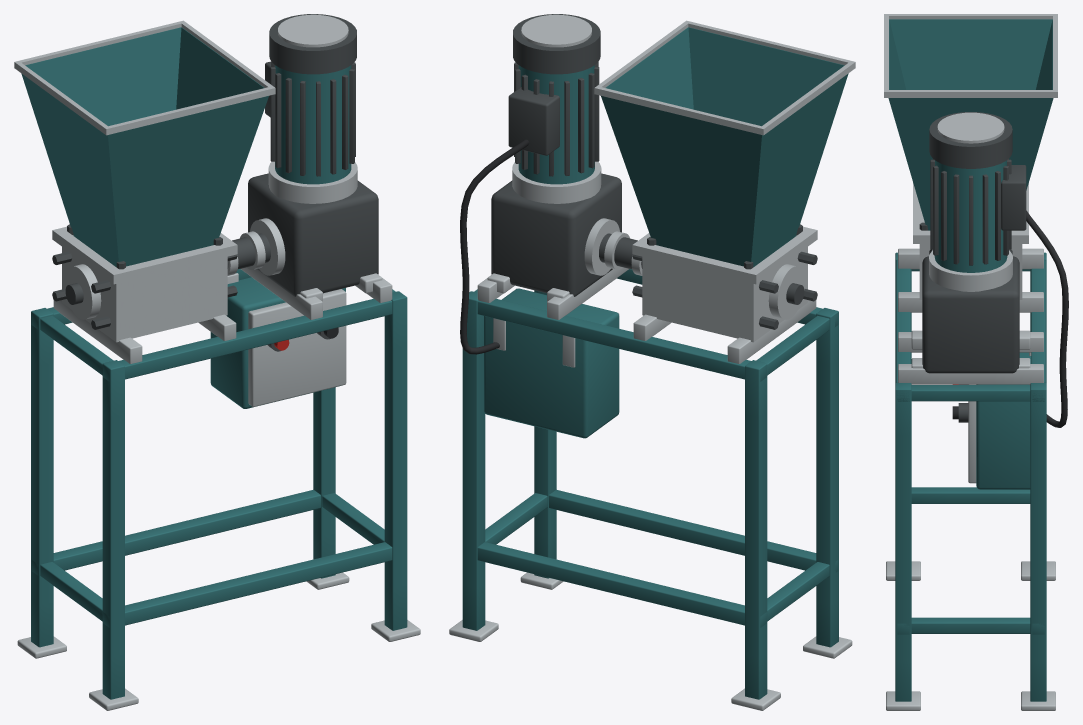
Rendered from A-NEW-20261026-PLASTIC-SHREDDER-001_LOD0_R4.glb.
The picture shows the model from 3 angles, left to right: view 1: azimuth 30°, elevation 25°; view 2: azimuth 150°, elevation 25°; view 3: azimuth 270°, elevation 25°; orthographic projection. The views are drawn at different scales.
Visible parts, largest first — view 1: open tapered hopper, gear reducer housing, hollow cutter housing, stand leg.002, stand leg, stand leg.001, enclosure front door, long frame rail, front top frame, vertical motor body, long frame rail.001, rolled hopper lip (+19 smaller); view 2: open tapered hopper, electrical enclosure, gear reducer housing, hollow cutter housing, stand leg.001, stand leg, stand leg.003, long frame rail.001, long frame rail.002, long frame rail, rolled hopper lip, vertical motor body (+18 smaller); view 3: open tapered hopper, gear reducer housing, stand leg.002, stand leg.003, electrical enclosure, vertical motor body, rolled hopper lip, rounded motor end cover, mounted support crossbar.003, short frame tie.001, short frame tie.003, short frame tie (+25 smaller).
Boxes of the visible parts, x1,y1,x2,y2 form: open tapered hopper: (21, 27, 268, 267); gear reducer housing: (248, 173, 378, 296); hollow cutter housing: (62, 247, 227, 342); stand leg.002: (384, 291, 407, 630); stand leg: (102, 360, 124, 699); stand leg.001: (31, 308, 53, 647); enclosure front door: (248, 289, 346, 406); long frame rail: (103, 542, 392, 627); front top frame: (103, 298, 392, 381); vertical motor body: (275, 65, 351, 184); long frame rail.001: (31, 489, 320, 575); rolled hopper lip: (14, 20, 275, 135); open tapered hopper: (601, 27, 848, 267); electrical enclosure: (484, 288, 619, 438); gear reducer housing: (491, 173, 621, 296); hollow cutter housing: (642, 247, 807, 342); stand leg.001: (745, 360, 767, 699); stand leg: (816, 308, 838, 647); stand leg.003: (462, 291, 485, 630); long frame rail.001: (477, 542, 766, 627); long frame rail.002: (477, 298, 766, 381); long frame rail: (549, 489, 838, 572); rolled hopper lip: (594, 20, 855, 135); vertical motor body: (518, 65, 594, 184); open tapered hopper: (888, 19, 1053, 230); gear reducer housing: (922, 256, 1019, 373); stand leg.002: (895, 382, 911, 701); stand leg.003: (1030, 382, 1046, 701); electrical enclosure: (976, 352, 1031, 489); vertical motor body: (934, 160, 1007, 272); rolled hopper lip: (884, 14, 1057, 97); rounded motor end cover: (929, 112, 1012, 168); mounted support crossbar.003: (898, 364, 1043, 384); short frame tie.001: (911, 617, 1030, 633); short frame tie.003: (911, 385, 1030, 401); short frame tie: (911, 487, 1030, 503).
Size of the model in its own units: 0.6385 by 1.13 by 0.3423.
